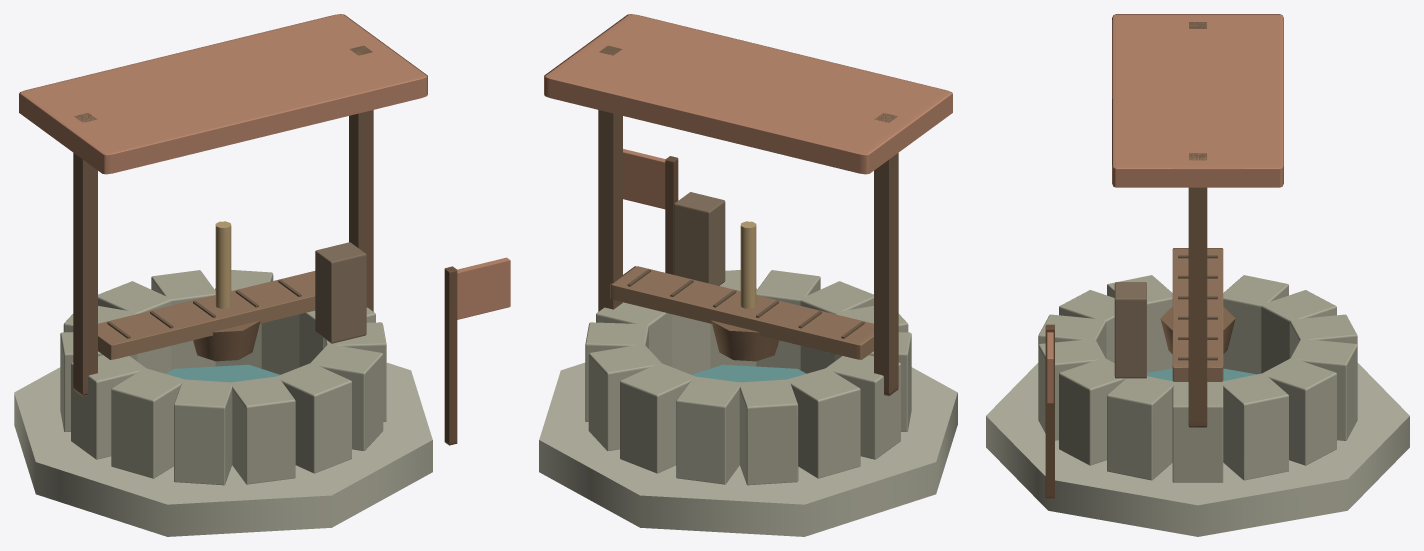
Rendered from oldwell-0.glb.
3 views of the same model, side by side, from view 1: azimuth 30°, elevation 25°; view 2: azimuth 150°, elevation 25°; view 3: azimuth 270°, elevation 25° (orthographic). The views are drawn at different scales.
Parts seen in each view (by area): view 1: oldwell-0-0, landmark-restored, landmark-ruin; view 2: oldwell-0-0, landmark-restored, landmark-ruin; view 3: oldwell-0-0, landmark-restored, landmark-ruin.
Boxes of the visible parts, x1=… form: oldwell-0-0: x1=14, y1=270, x2=432, y2=536; landmark-restored: x1=19, y1=14, x2=510, y2=445; landmark-ruin: x1=98, y1=242, x2=366, y2=359; oldwell-0-0: x1=539, y1=270, x2=957, y2=536; landmark-restored: x1=544, y1=14, x2=952, y2=396; landmark-ruin: x1=610, y1=192, x2=873, y2=359; oldwell-0-0: x1=986, y1=275, x2=1409, y2=536; landmark-restored: x1=1045, y1=14, x2=1283, y2=498; landmark-ruin: x1=1114, y1=248, x2=1223, y2=381.
Size of the model in its own units: 1.68 by 1.46 by 1.58.
